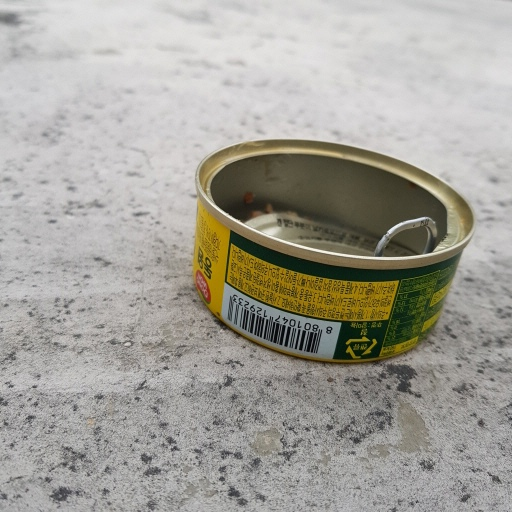Metal_1: (183, 136, 477, 361)
